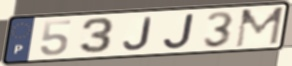3: (79, 17, 117, 55), (202, 10, 237, 49)
5: (39, 18, 74, 57)
J: (161, 12, 196, 50), (121, 16, 154, 51)
M: (233, 6, 286, 50)
